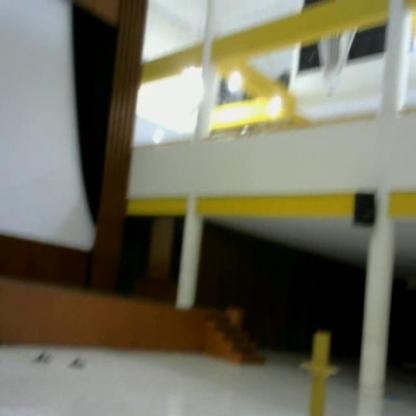pole: (295, 330, 344, 416)
